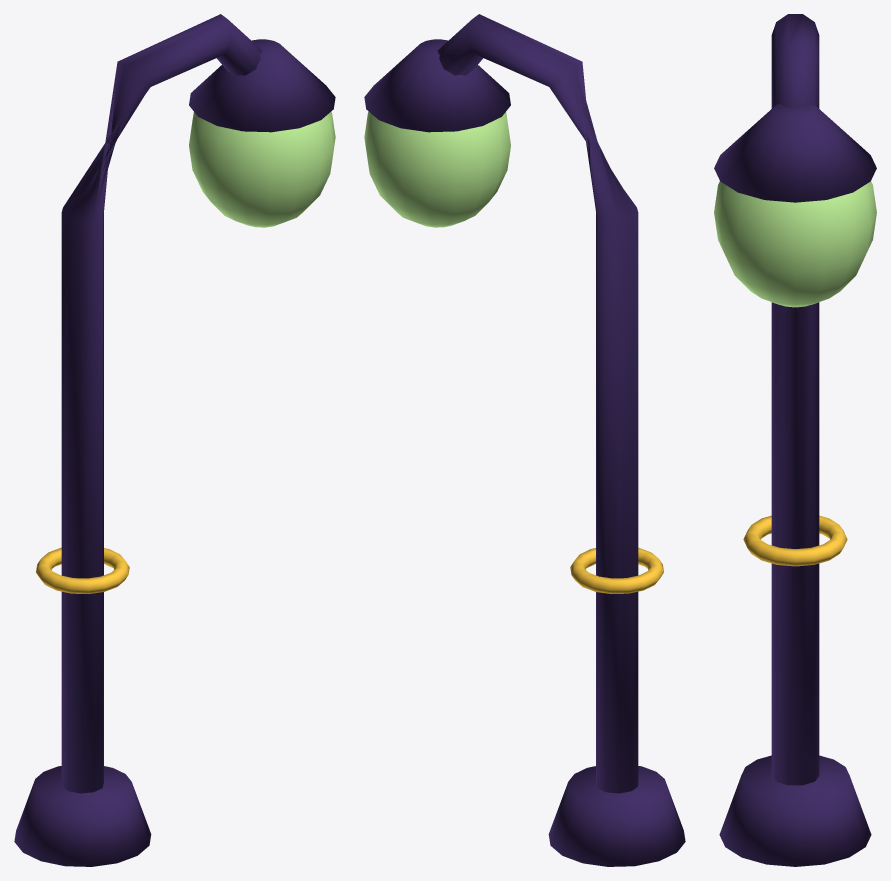
File: P_LampPost.fbx
3 views of the same model, side by side, from view 1: azimuth 30°, elevation 25°; view 2: azimuth 150°, elevation 25°; view 3: azimuth 270°, elevation 25° (orthographic). The views are drawn at different scales.
Visible parts, largest first — view 1: P_LampPost__Metal, P_LampPost__Bulb, P_LampPost__Gold; view 2: P_LampPost__Metal, P_LampPost__Bulb, P_LampPost__Gold; view 3: P_LampPost__Metal, P_LampPost__Bulb, P_LampPost__Gold.
Part boxes in pixels (x1,y1,x2,y2): P_LampPost__Metal: (14, 14, 335, 866); P_LampPost__Bulb: (189, 111, 335, 227); P_LampPost__Gold: (36, 547, 129, 593); P_LampPost__Metal: (364, 14, 685, 866); P_LampPost__Bulb: (364, 111, 510, 227); P_LampPost__Gold: (570, 547, 663, 593); P_LampPost__Metal: (714, 14, 876, 866); P_LampPost__Bulb: (714, 181, 876, 307); P_LampPost__Gold: (743, 515, 847, 566).
Size of the model in its own units: 3.55 by 8.8 by 1.5.
